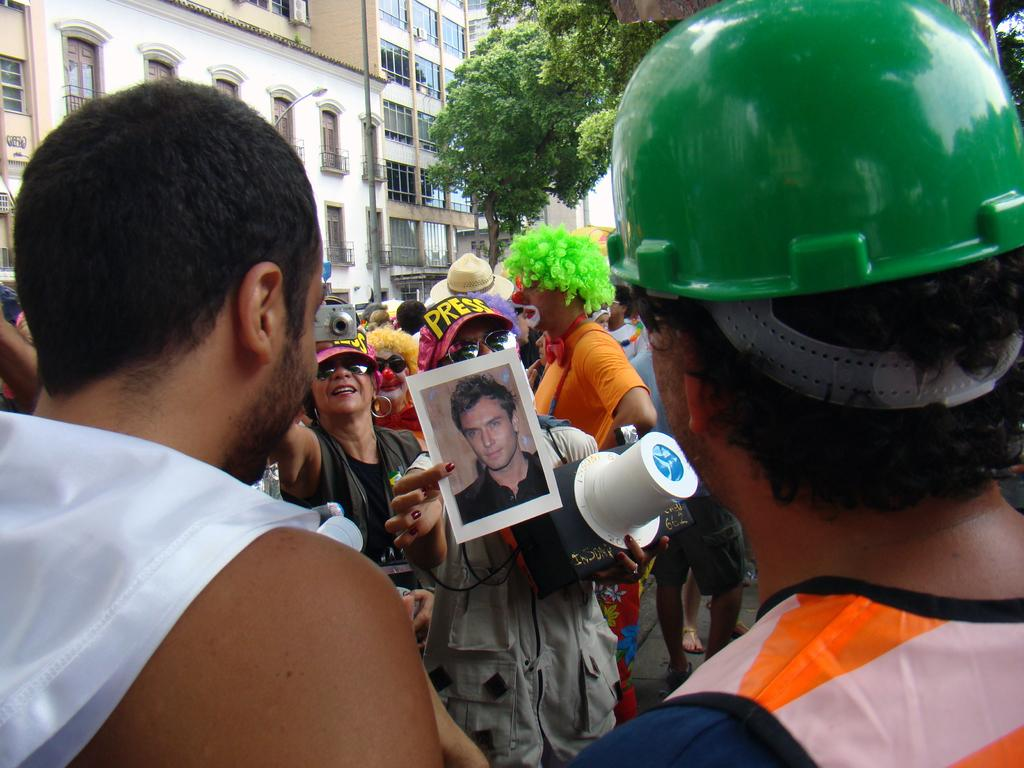Hat: (413, 294, 512, 372), (428, 252, 514, 304), (312, 326, 378, 377)
